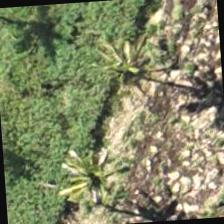Kelapa_Sawit: (88, 18, 184, 114), (45, 132, 142, 223)
